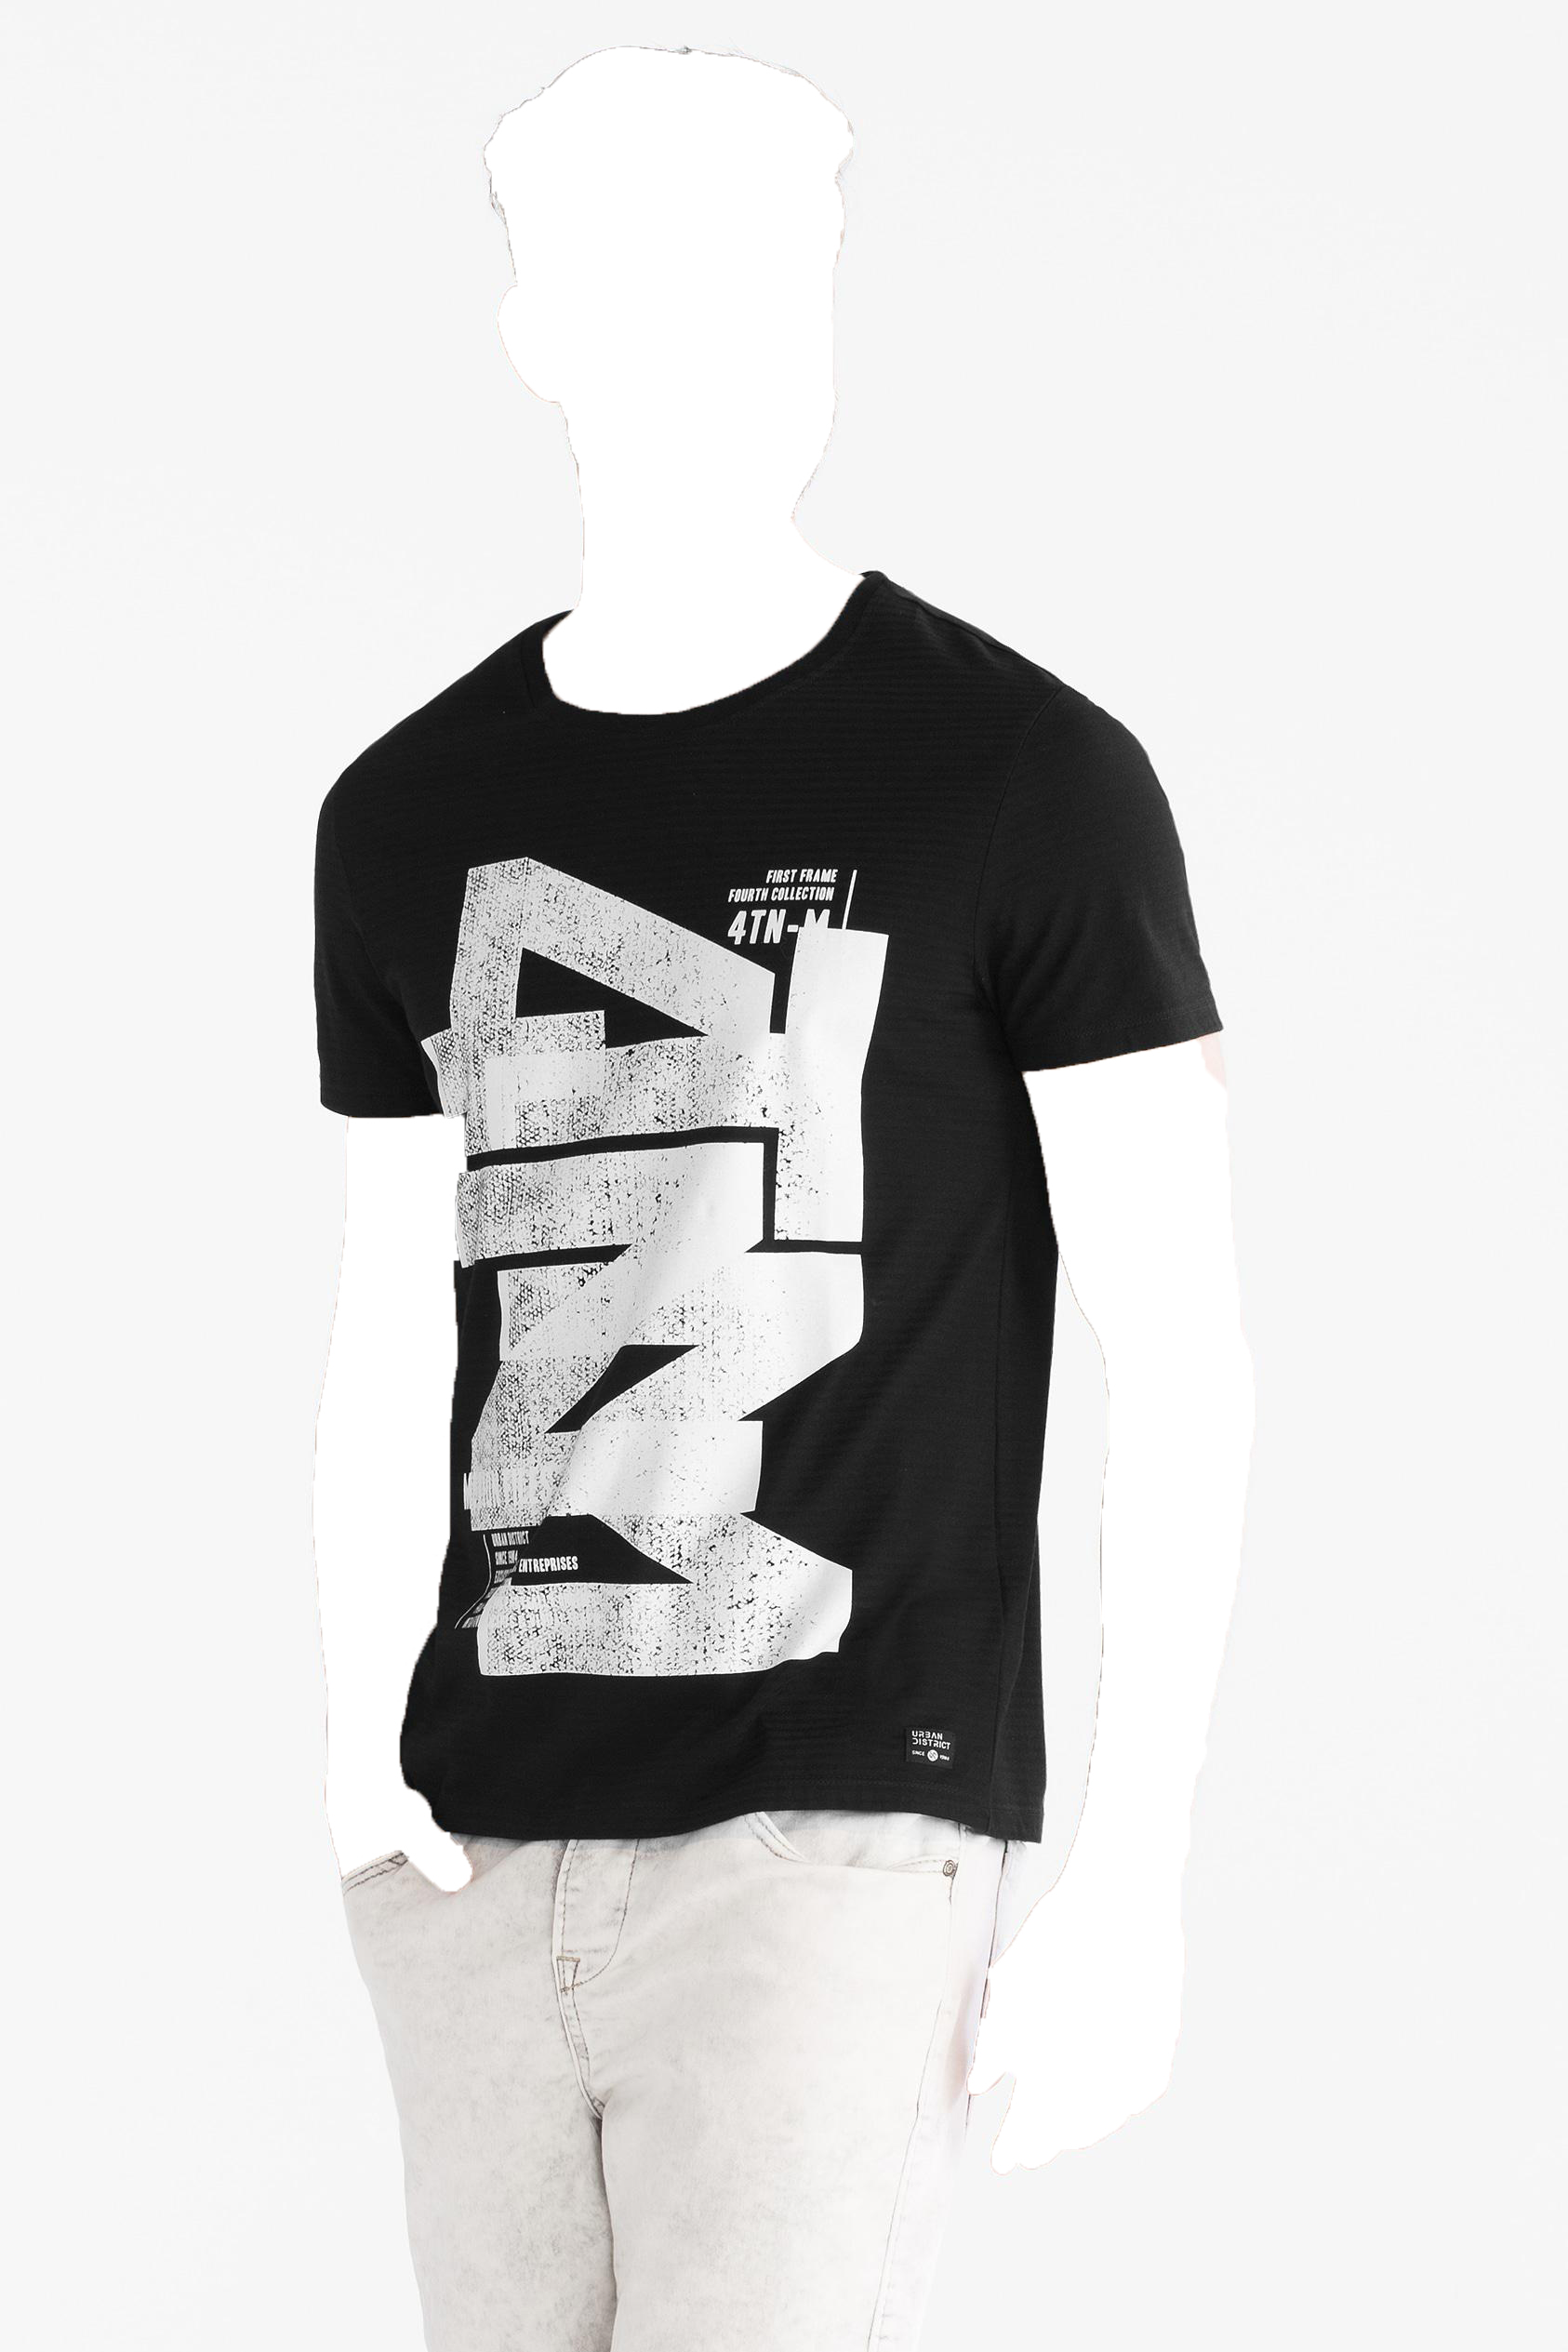teeshirt: (275, 560, 1279, 1862)
